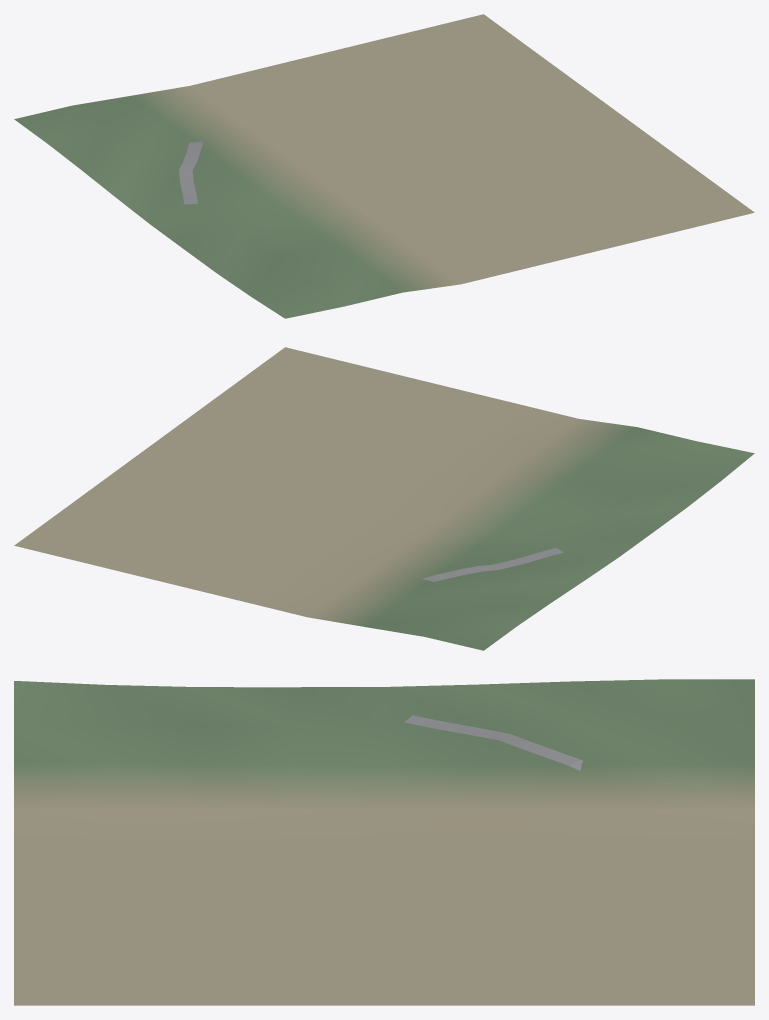
3 renders of one model, top to bottom at view 1: azimuth 30°, elevation 25°; view 2: azimuth 150°, elevation 25°; view 3: azimuth 270°, elevation 25°, orthographic. The views are drawn at different scales.
Visible parts, largest first — view 1: Lo; view 2: Lo; view 3: Lo.
Boxes of the visible parts, bbox=[...] form: Lo: bbox=[14, 14, 754, 318]; Lo: bbox=[14, 347, 754, 650]; Lo: bbox=[14, 679, 754, 1005].
Size of the model in its own units: 256 by 4.97 by 256.
